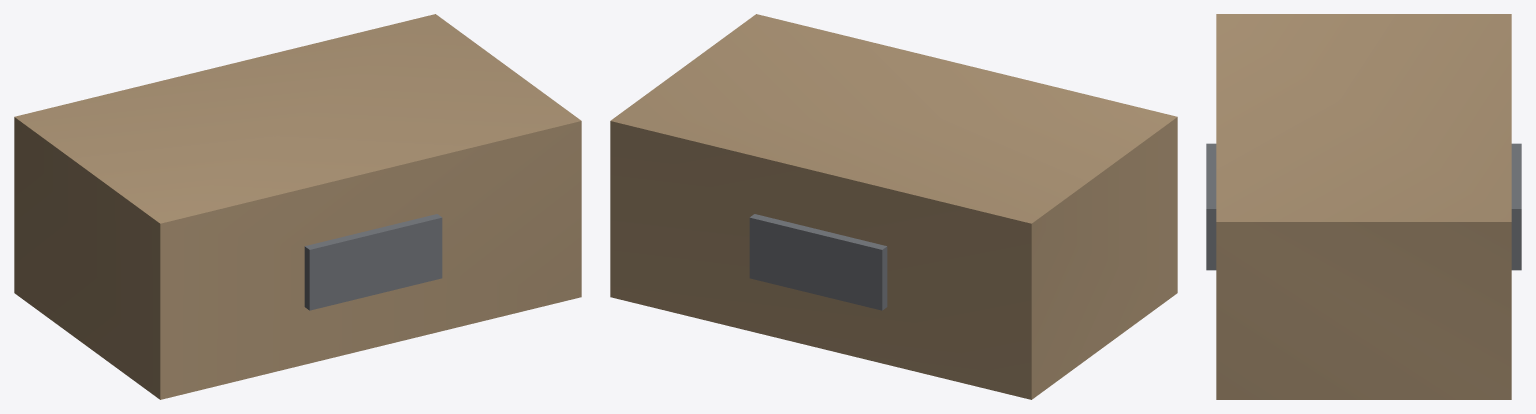
The model's file is Prop_AppleBox_Full.glb.
The picture shows the model from 3 angles, left to right: view 1: azimuth 30°, elevation 25°; view 2: azimuth 150°, elevation 25°; view 3: azimuth 270°, elevation 25°; orthographic projection.
Parts seen in each view (by area): view 1: Prop_AppleBox_Full_LOD0; view 2: Prop_AppleBox_Full_LOD0; view 3: Prop_AppleBox_Full_LOD0.
Boxes of the visible parts, <box> form: Prop_AppleBox_Full_LOD0: <box>14,14,581,399</box>; Prop_AppleBox_Full_LOD0: <box>610,14,1177,399</box>; Prop_AppleBox_Full_LOD0: <box>1206,14,1521,399</box>.
Bounding box in the file's own units: 0.508 × 0.203 × 0.326.
